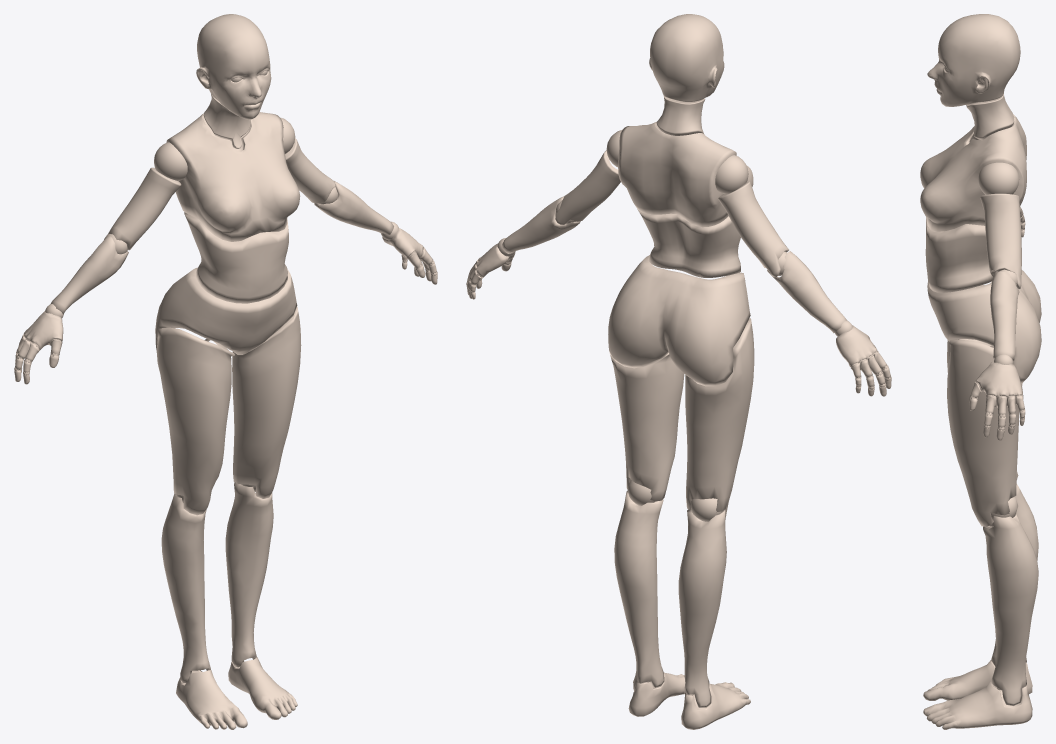
The model's file is base_chan.glb.
3 renders of one model, left to right at view 1: azimuth 30°, elevation 25°; view 2: azimuth 150°, elevation 25°; view 3: azimuth 270°, elevation 25°, orthographic.
Parts seen in each view (by area): view 1: Thighs, Shins, Torso, Hips, Head, Tummy, Upperarms, Feet, Forearms, Hands, Neck; view 2: Thighs, Shins, Hips, Torso, Upperarms, Head, Tummy, Forearms, Feet, Hands, Neck; view 3: Thighs, Shins, Torso, Head, Hips, Feet, Upperarms, Tummy, Forearms, Hands, Neck.
Boxes of the visible parts, <box> form: Thighs: <box>156,306,301,515</box>; Shins: <box>161,482,273,682</box>; Torso: <box>166,112,300,241</box>; Hips: <box>155,267,297,354</box>; Head: <box>196,14,271,119</box>; Tummy: <box>184,212,288,303</box>; Upperarms: <box>107,117,335,250</box>; Feet: <box>176,657,297,729</box>; Forearms: <box>50,180,393,314</box>; Hands: <box>23,221,423,350</box>; Neck: <box>203,94,250,148</box>; Thighs: <box>610,318,754,521</box>; Shins: <box>614,490,726,707</box>; Hips: <box>608,255,750,386</box>; Torso: <box>618,122,753,227</box>; Upperarms: <box>555,130,788,277</box>; Head: <box>649,14,724,101</box>; Tummy: <box>637,209,740,277</box>; Forearms: <box>502,196,847,333</box>; Feet: <box>628,672,750,729</box>; Hands: <box>476,238,876,367</box>; Neck: <box>656,96,705,135</box>; Thighs: <box>947,285,1022,526</box>; Shins: <box>983,484,1038,705</box>; Torso: <box>920,114,1026,231</box>; Head: <box>927,14,1020,106</box>; Hips: <box>927,270,1041,383</box>; Feet: <box>923,660,1032,729</box>; Upperarms: <box>978,162,1021,289</box>; Tummy: <box>925,216,992,292</box>; Forearms: <box>990,269,1019,361</box>; Hands: <box>975,206,1023,396</box>; Neck: <box>966,93,1014,142</box>.
Bounding box in the file's own units: 1.11 × 1.75 × 0.2782.
